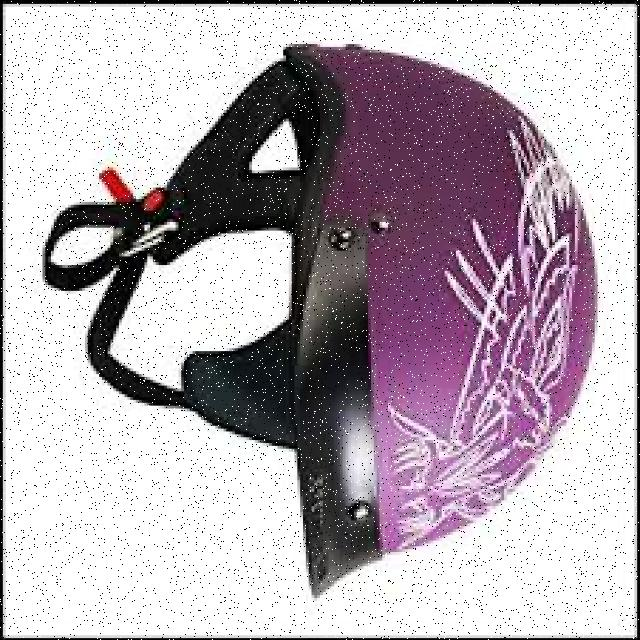Helmet: (46, 46, 596, 593)
